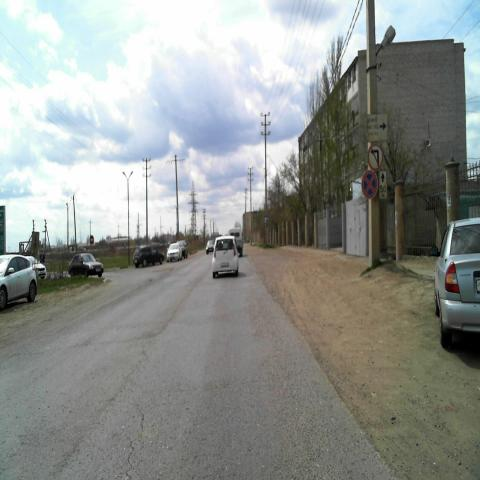3_1: (90, 234, 95, 244)
3_18_2: (368, 143, 383, 170)
3_27: (362, 170, 378, 200)
7_3: (264, 216, 269, 228)
8_2_2: (379, 170, 387, 200)
